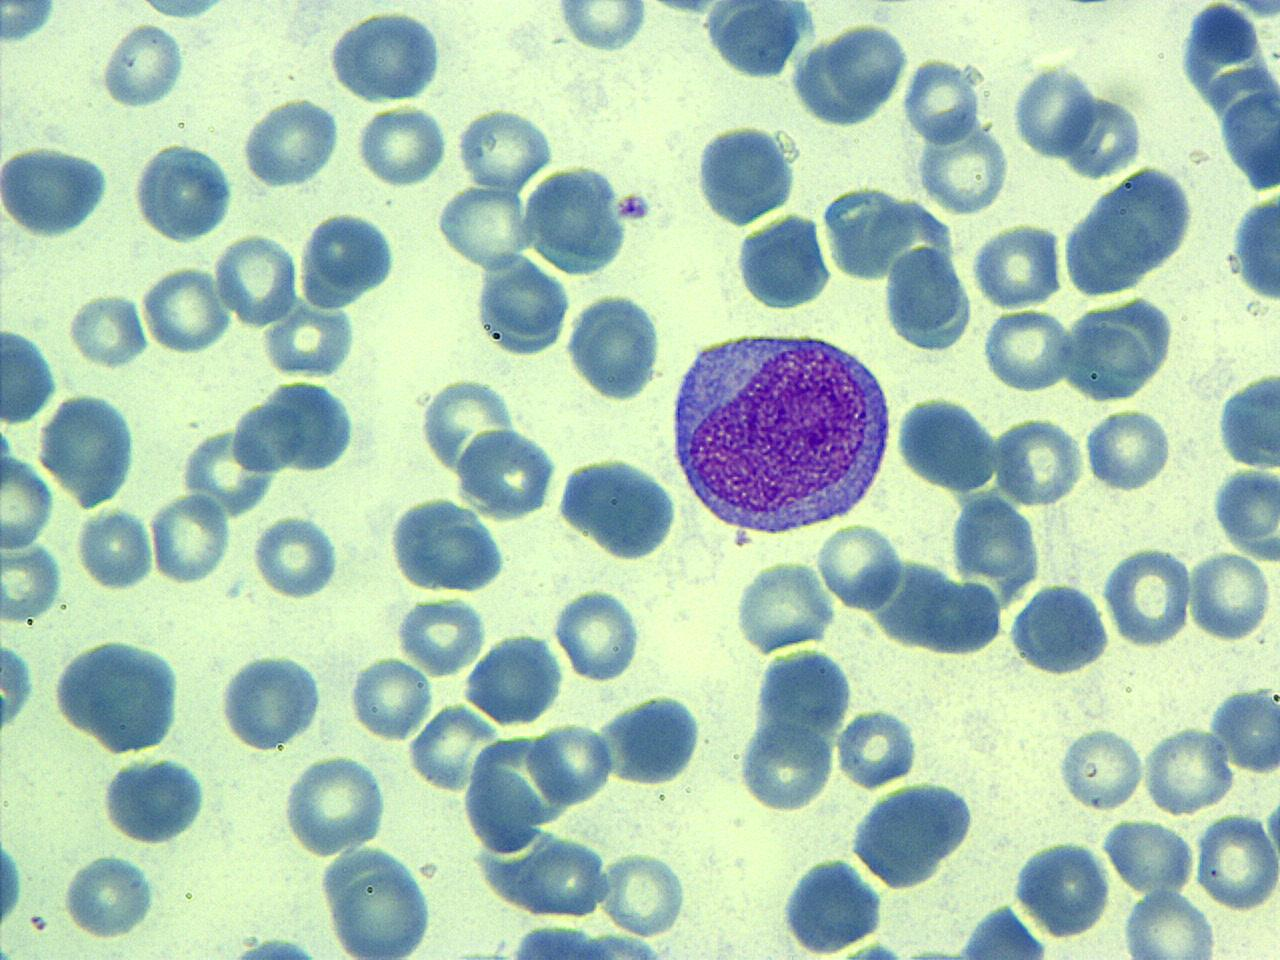Platelets: (0, 636, 37, 734), (0, 838, 27, 936), (1, 2, 56, 47), (228, 936, 325, 960), (840, 938, 909, 960), (614, 189, 654, 223), (642, 0, 714, 17)
RBC: (1064, 292, 1180, 403), (323, 848, 436, 960), (38, 388, 138, 512), (946, 487, 1046, 605), (281, 753, 390, 857), (892, 392, 1002, 495), (0, 140, 110, 242), (296, 208, 402, 311), (469, 254, 572, 360), (452, 424, 561, 523), (594, 692, 706, 788), (461, 630, 566, 729), (732, 558, 838, 656), (735, 719, 839, 815), (420, 375, 520, 474), (239, 95, 344, 189), (1102, 542, 1194, 649), (916, 116, 1014, 216), (454, 102, 558, 196), (434, 179, 536, 271), (823, 15, 912, 116), (552, 584, 642, 682), (992, 413, 1084, 508), (1010, 59, 1096, 160), (1142, 721, 1232, 817), (61, 852, 159, 940), (814, 519, 906, 612), (972, 218, 1063, 312), (141, 262, 232, 356), (979, 305, 1075, 394), (214, 229, 300, 328), (1186, 548, 1274, 644), (148, 489, 234, 587), (1195, 811, 1277, 913), (353, 102, 450, 188), (600, 848, 691, 938), (392, 594, 489, 678), (97, 20, 185, 112), (1082, 406, 1174, 494), (1102, 814, 1198, 898), (252, 512, 340, 600), (1056, 724, 1144, 812), (348, 653, 435, 741), (900, 54, 982, 147), (259, 302, 358, 379), (528, 720, 614, 807), (833, 705, 921, 789), (1209, 462, 1279, 565), (74, 505, 154, 594), (1118, 888, 1216, 960), (0, 522, 66, 626), (1207, 682, 1280, 776), (67, 289, 149, 370), (1, 452, 56, 552), (552, 1, 650, 54), (1, 633, 35, 741)
WBC: (665, 324, 896, 542), (1056, 161, 1200, 299), (1179, 0, 1280, 196), (50, 632, 190, 756), (849, 778, 978, 893), (320, 843, 437, 959), (522, 159, 638, 276), (35, 387, 143, 512), (559, 451, 680, 562), (386, 490, 509, 599), (794, 12, 910, 127), (324, 4, 449, 104), (731, 551, 842, 661), (565, 285, 667, 404), (247, 376, 366, 477), (128, 139, 239, 247), (692, 120, 802, 228), (946, 487, 1047, 604), (218, 646, 326, 754), (1072, 292, 1178, 401), (777, 853, 888, 956), (879, 241, 977, 356), (0, 142, 113, 241), (1012, 834, 1115, 942), (470, 252, 572, 358), (1004, 579, 1113, 678), (732, 211, 835, 315), (595, 692, 706, 788), (99, 754, 210, 850), (300, 207, 406, 304), (240, 95, 346, 192), (455, 430, 562, 523), (698, 2, 818, 82), (464, 632, 565, 726), (259, 299, 360, 383), (476, 921, 689, 960), (834, 706, 924, 788), (1207, 680, 1280, 776), (1210, 462, 1280, 562), (1215, 366, 1280, 472), (1229, 182, 1280, 312), (1, 323, 60, 428), (948, 904, 1052, 960)
